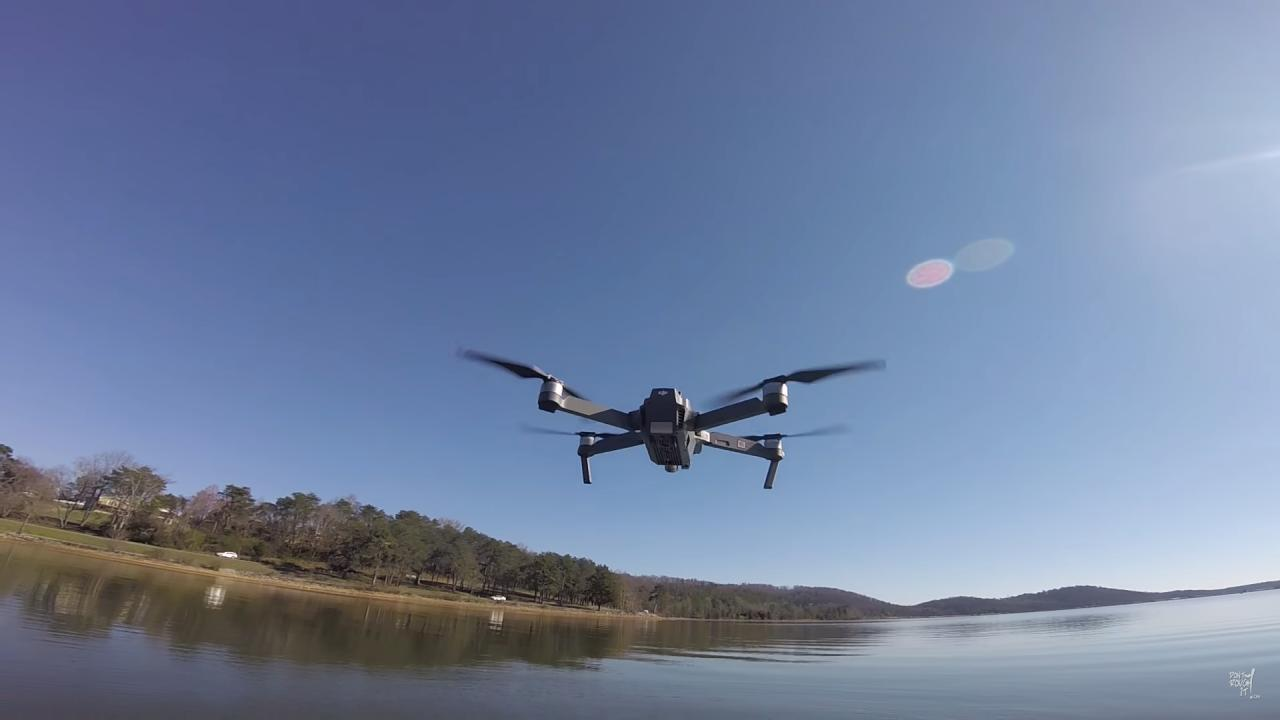Drone: (443, 330, 898, 501)
